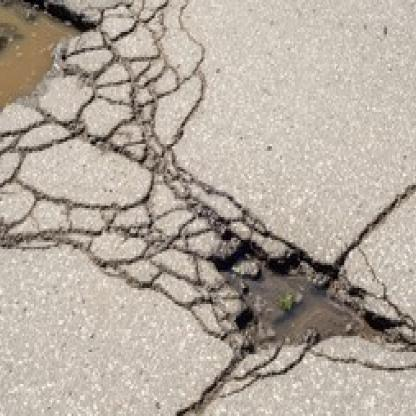pothole: (211, 217, 390, 352), (0, 0, 95, 112)
